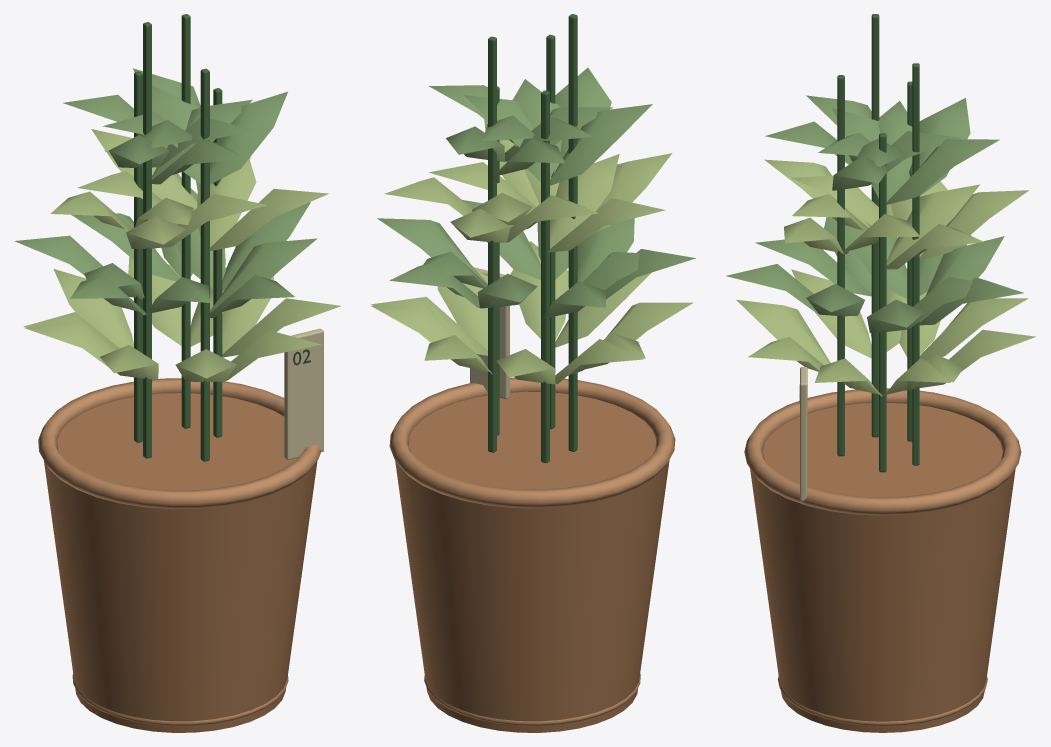
File: plant-b.glb
3 views of the same model, side by side, from view 1: azimuth 30°, elevation 25°; view 2: azimuth 150°, elevation 25°; view 3: azimuth 270°, elevation 25° (orthographic). The views are drawn at different scales.
Visible parts, largest first — view 1: plant-b_Plant_Root_1_GH_clay.002, plant-b_Plant_Root_1_GH_leaf-light.002, plant-b_Plant_Root_1_GH_leaf.002, plant-b_Plant_Root_1_GH_leaf-dark.002, plant-b_Plant_Root_1_GH_clay-rim.002, plant-b_Plant_Root_1_GH_ivory-dark.002; view 2: plant-b_Plant_Root_1_GH_clay.002, plant-b_Plant_Root_1_GH_leaf-light.002, plant-b_Plant_Root_1_GH_leaf.002, plant-b_Plant_Root_1_GH_clay-rim.002, plant-b_Plant_Root_1_GH_leaf-dark.002, plant-b_Plant_Root_1_GH_ivory-dark.002; view 3: plant-b_Plant_Root_1_GH_clay.002, plant-b_Plant_Root_1_GH_leaf-light.002, plant-b_Plant_Root_1_GH_leaf.002, plant-b_Plant_Root_1_GH_clay-rim.002, plant-b_Plant_Root_1_GH_leaf-dark.002, plant-b_Plant_Root_1_GH_ivory-dark.002.
Part boxes in pixels (x1=…): plant-b_Plant_Root_1_GH_clay.002: x1=44, y1=393, x2=317, y2=732; plant-b_Plant_Root_1_GH_leaf-light.002: x1=23, y1=129, x2=340, y2=382; plant-b_Plant_Root_1_GH_leaf.002: x1=14, y1=68, x2=317, y2=318; plant-b_Plant_Root_1_GH_leaf-dark.002: x1=134, y1=14, x2=222, y2=461; plant-b_Plant_Root_1_GH_clay-rim.002: x1=38, y1=378, x2=321, y2=725; plant-b_Plant_Root_1_GH_ivory-dark.002: x1=284, y1=328, x2=323, y2=459; plant-b_Plant_Root_1_GH_clay.002: x1=395, y1=391, x2=669, y2=732; plant-b_Plant_Root_1_GH_leaf-light.002: x1=371, y1=119, x2=693, y2=384; plant-b_Plant_Root_1_GH_leaf.002: x1=377, y1=67, x2=695, y2=319; plant-b_Plant_Root_1_GH_clay-rim.002: x1=389, y1=377, x2=675, y2=725; plant-b_Plant_Root_1_GH_leaf-dark.002: x1=488, y1=14, x2=577, y2=463; plant-b_Plant_Root_1_GH_ivory-dark.002: x1=470, y1=267, x2=509, y2=399; plant-b_Plant_Root_1_GH_clay.002: x1=750, y1=402, x2=1015, y2=732; plant-b_Plant_Root_1_GH_leaf-light.002: x1=736, y1=159, x2=1035, y2=396; plant-b_Plant_Root_1_GH_leaf.002: x1=726, y1=95, x2=1023, y2=332; plant-b_Plant_Root_1_GH_clay-rim.002: x1=744, y1=388, x2=1021, y2=725; plant-b_Plant_Root_1_GH_leaf-dark.002: x1=837, y1=14, x2=919, y2=472; plant-b_Plant_Root_1_GH_ivory-dark.002: x1=800, y1=367, x2=807, y2=501.
Bounding box in the file's own units: 0.3377 × 0.78 × 0.335.
